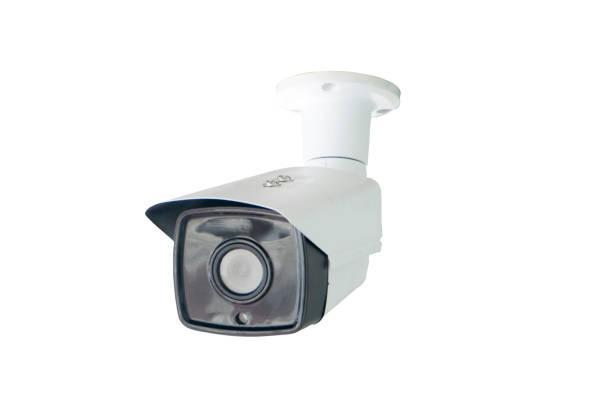camera: (101, 50, 453, 361)
